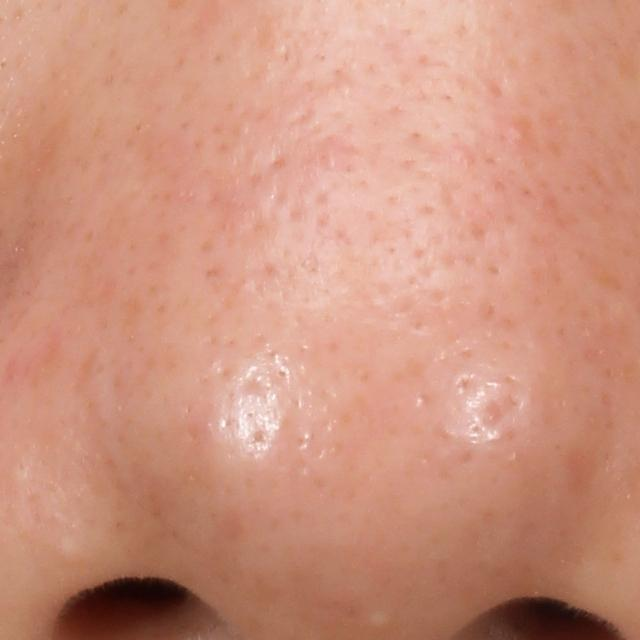comedo: (509, 123, 532, 143)
other: (359, 605, 401, 632)
